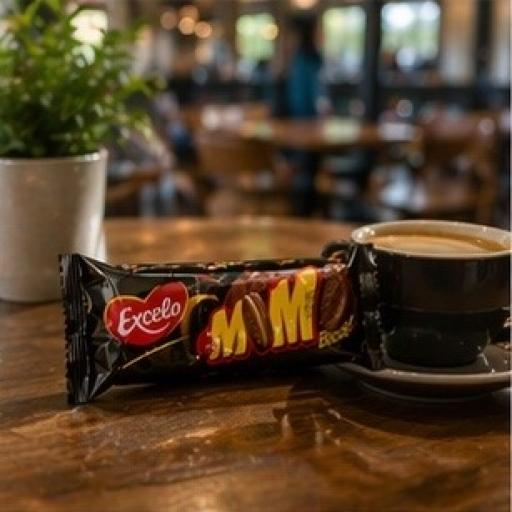MOMO: (13, 185, 424, 419)
